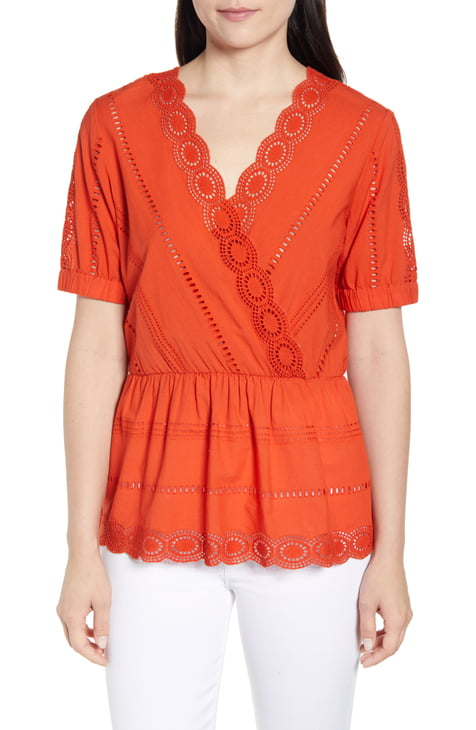C_W_pants: (85, 549, 367, 730)
C_short blouse: (50, 63, 420, 567)
